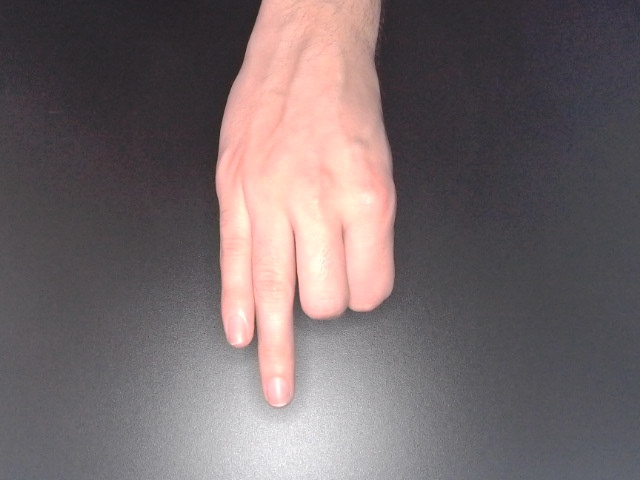n: (210, 1, 403, 414)
